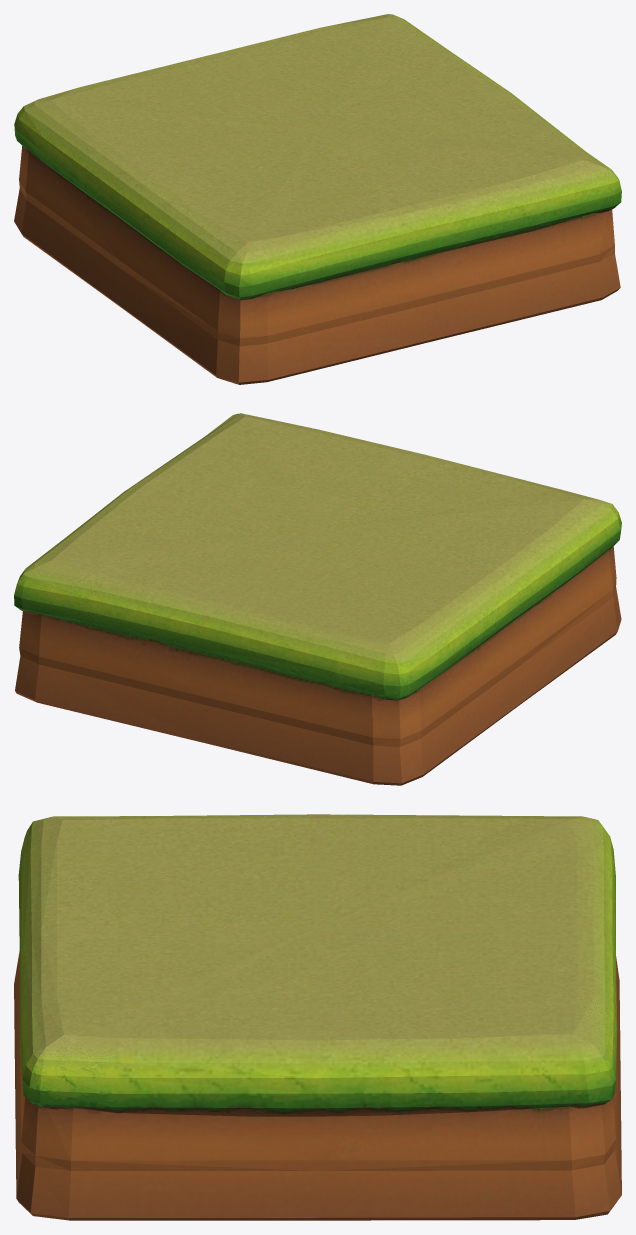
Rendered from barranco 3d.glb.
3 renders of one model, top to bottom at view 1: azimuth 30°, elevation 25°; view 2: azimuth 150°, elevation 25°; view 3: azimuth 270°, elevation 25°, orthographic. The views are drawn at different scales.
Visible parts, largest first — view 1: tripo_node_2b56efb5-4266-4514-a965-13c38af3dd38; view 2: tripo_node_2b56efb5-4266-4514-a965-13c38af3dd38; view 3: tripo_node_2b56efb5-4266-4514-a965-13c38af3dd38.
Part boxes in pixels (box(x1,y1,x2,y2)): tripo_node_2b56efb5-4266-4514-a965-13c38af3dd38: box(14, 14, 621, 384); tripo_node_2b56efb5-4266-4514-a965-13c38af3dd38: box(14, 413, 621, 785); tripo_node_2b56efb5-4266-4514-a965-13c38af3dd38: box(14, 814, 621, 1220).
Bounding box in the file's own units: 0.998 × 0.3027 × 0.998.
Materials: 1 (1 with a texture image).
